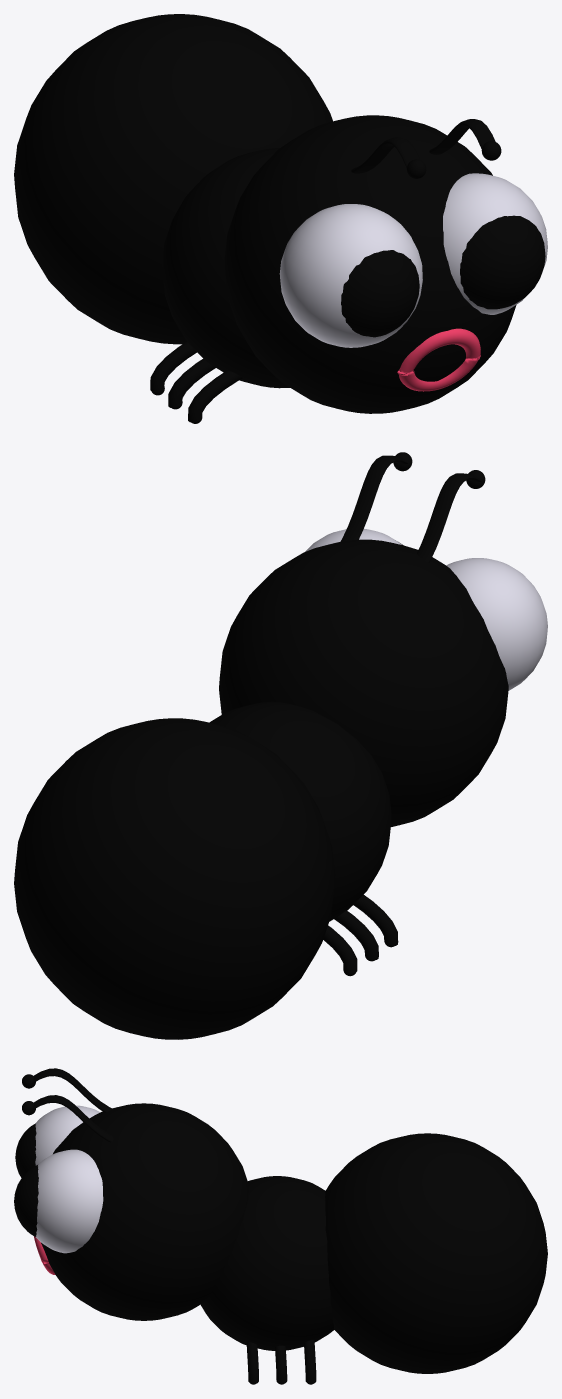
The model's file is Ant.glb.
The picture shows the model from 3 angles, top to bottom: view 1: azimuth 30°, elevation 25°; view 2: azimuth 150°, elevation 25°; view 3: azimuth 270°, elevation 25°; orthographic projection. The views are drawn at different scales.
Visible parts, largest first — view 1: 球体.002, 球体, 球体.001, 球体.003, 球体.005, 球体.004, 球体.006, 环体, 贝塞尔曲线.004, 贝塞尔曲线.001, 贝塞尔曲线, 贝塞尔曲线.003 (+1 smaller); view 2: 球体.002, 球体, 球体.001, 球体.003, 贝塞尔曲线.001, 贝塞尔曲线, 贝塞尔曲线.004, 贝塞尔曲线.002, 贝塞尔曲线.003; view 3: 球体.002, 球体, 球体.001, 球体.004, 球体.003, 球体.005, 球体.006, 贝塞尔曲线, 贝塞尔曲线.001, 贝塞尔曲线.007, 贝塞尔曲线.005, 贝塞尔曲线.006.
Boxes of the visible parts, x1,y1,x2,y2 form: 球体.002: [14, 14, 332, 344]; 球体: [224, 115, 516, 413]; 球体.001: [162, 148, 289, 388]; 球体.003: [279, 204, 422, 347]; 球体.005: [460, 215, 545, 309]; 球体.004: [443, 173, 547, 314]; 球体.006: [341, 250, 419, 337]; 环体: [397, 328, 480, 391]; 贝塞尔曲线.004: [188, 370, 242, 422]; 贝塞尔曲线.001: [351, 137, 420, 173]; 贝塞尔曲线: [429, 119, 495, 154]; 贝塞尔曲线.003: [150, 341, 196, 391]; 球体.002: [14, 718, 335, 1039]; 球体: [219, 539, 508, 826]; 球体.001: [209, 701, 391, 921]; 球体.003: [446, 558, 547, 690]; 贝塞尔曲线.001: [417, 473, 481, 562]; 贝塞尔曲线: [340, 455, 408, 541]; 贝塞尔曲线.004: [353, 894, 398, 945]; 贝塞尔曲线.002: [334, 910, 378, 960]; 贝塞尔曲线.003: [323, 925, 357, 972]; 球体.002: [325, 1133, 547, 1373]; 球体: [41, 1103, 249, 1320]; 球体.001: [200, 1176, 334, 1350]; 球体.004: [36, 1149, 103, 1253]; 球体.003: [35, 1105, 99, 1165]; 球体.005: [14, 1165, 38, 1236]; 球体.006: [15, 1123, 36, 1177]; 贝塞尔曲线: [31, 1095, 113, 1142]; 贝塞尔曲线.001: [31, 1068, 112, 1112]; 贝塞尔曲线.007: [304, 1340, 316, 1383]; 贝塞尔曲线.005: [246, 1342, 258, 1383]; 贝塞尔曲线.006: [275, 1345, 287, 1383].
Bounding box in the file's own units: 2 × 2.57 × 4.43.
